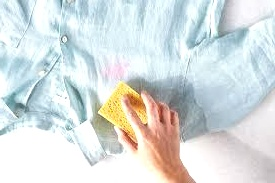lipstick: (103, 64, 134, 82)
